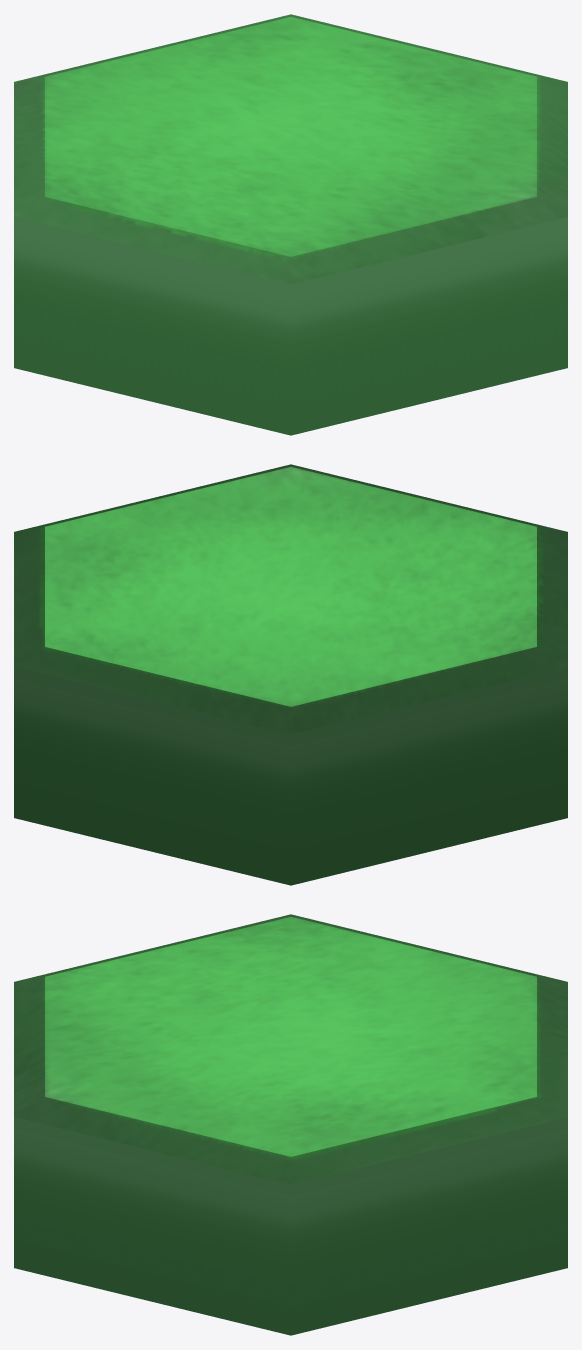
Rendered from Hex.obj.
3 views of the same model, one above another, from view 1: azimuth 30°, elevation 25°; view 2: azimuth 150°, elevation 25°; view 3: azimuth 270°, elevation 25° (orthographic).
Parts seen in each view (by area): view 1: Cylinder012; view 2: Cylinder012; view 3: Cylinder012.
Boxes of the visible parts, box(x1,y1,x2,y2) form: Cylinder012: box(14, 14, 567, 435); Cylinder012: box(14, 464, 567, 885); Cylinder012: box(14, 914, 567, 1335).
Size of the model in its own units: 1.15 by 0.3235 by 0.9923.
